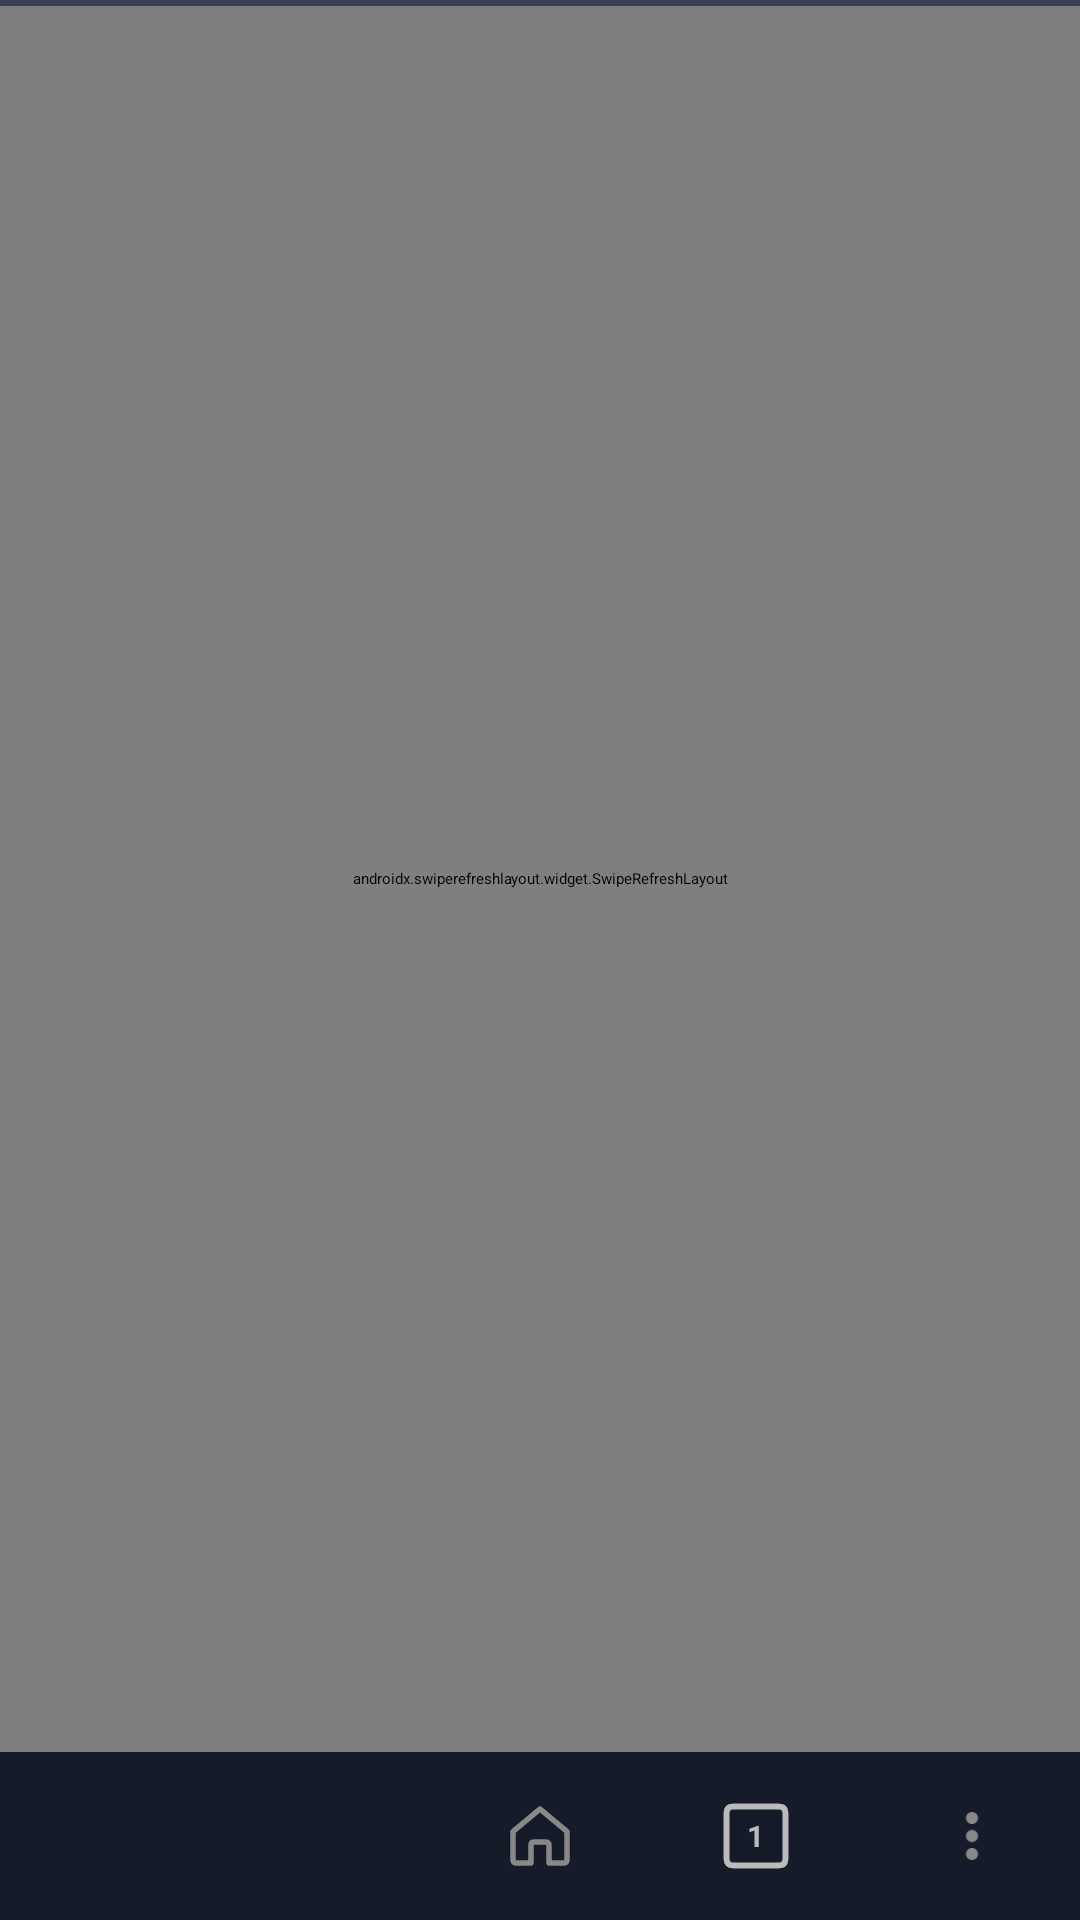

Where icons sit on this 1080px×1920px app screen, as (x1, y1, x2, y2):
home: (510, 1806, 570, 1866)
menu: (965, 1812, 979, 1860)
